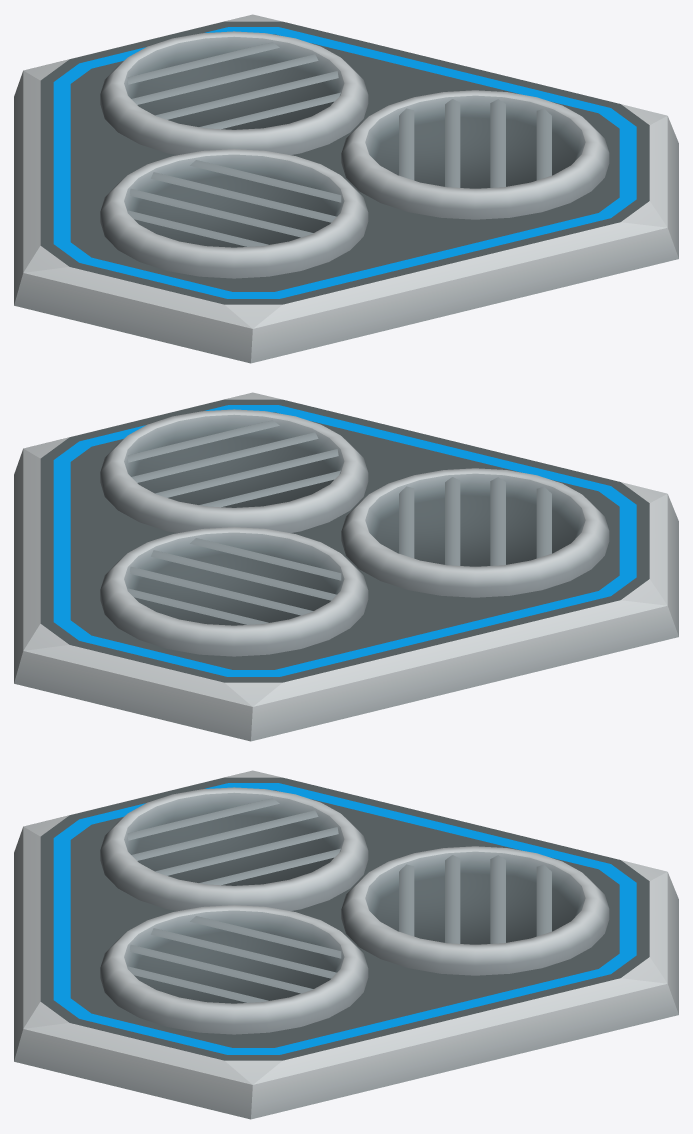
File: Ventilation_019.glb
The picture shows the model from 3 angles, top to bottom: view 1: azimuth 30°, elevation 25°; view 2: azimuth 150°, elevation 25°; view 3: azimuth 270°, elevation 25°; orthographic projection.
Parts seen in each view (by area): view 1: Ventilation_019; view 2: Ventilation_019; view 3: Ventilation_019.
Boxes of the visible parts, x1=… form: Ventilation_019: x1=14, y1=14, x2=678, y2=363; Ventilation_019: x1=14, y1=392, x2=678, y2=741; Ventilation_019: x1=14, y1=770, x2=678, y2=1119.
Bounding box in the file's own units: 1.24 × 0.1053 × 1.08.
2 materials, 2 textured.
